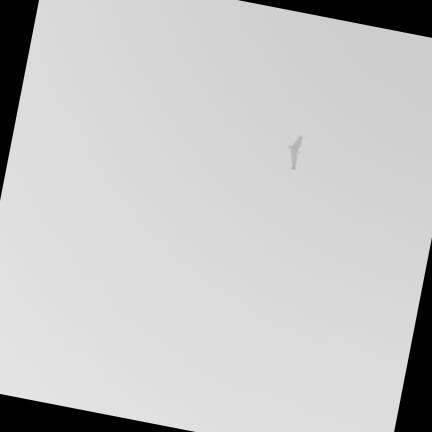Shahed: (288, 137, 300, 169)
